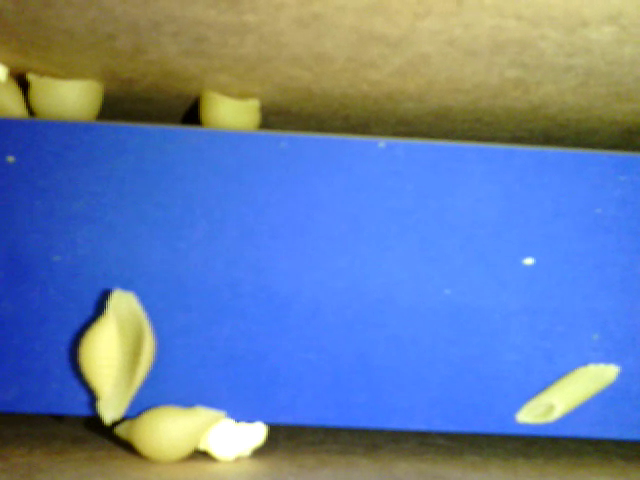penne: (514, 361, 623, 424)
shell: (76, 286, 156, 423), (111, 403, 225, 463), (27, 73, 104, 120), (198, 90, 261, 134)
